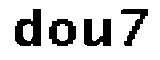7: (116, 4, 152, 53)
d: (12, 11, 42, 50)
o: (47, 14, 78, 49)
u: (81, 15, 116, 51)
